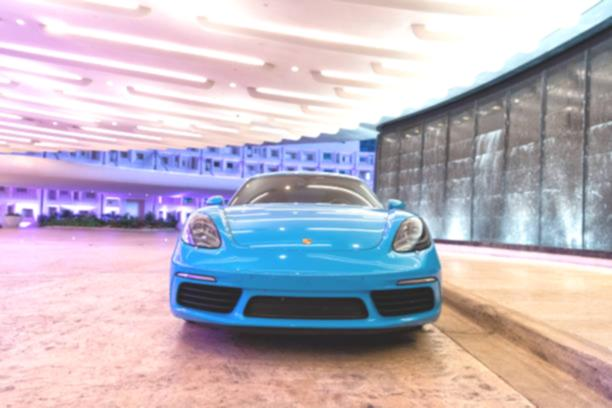porsche: (293, 237, 322, 249)
